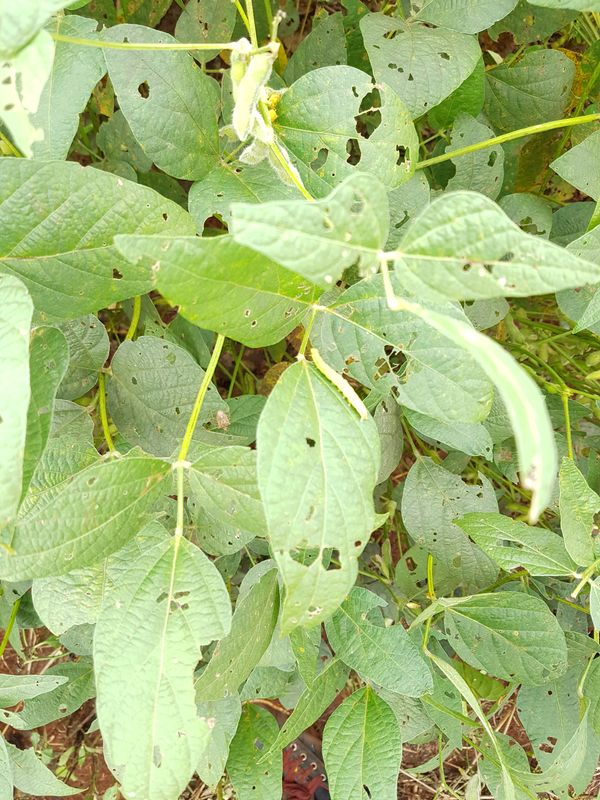Anticarsia_gemmatalis: (303, 342, 379, 426)
Euschistus_heros_adulto: (209, 408, 233, 434)
